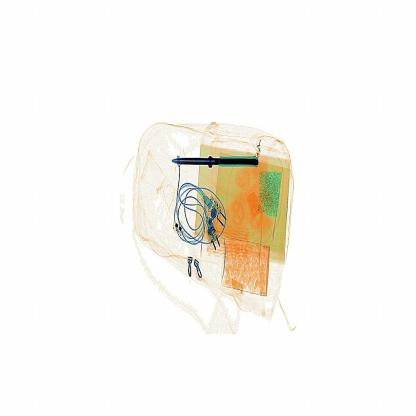gun: (158, 144, 266, 176)
